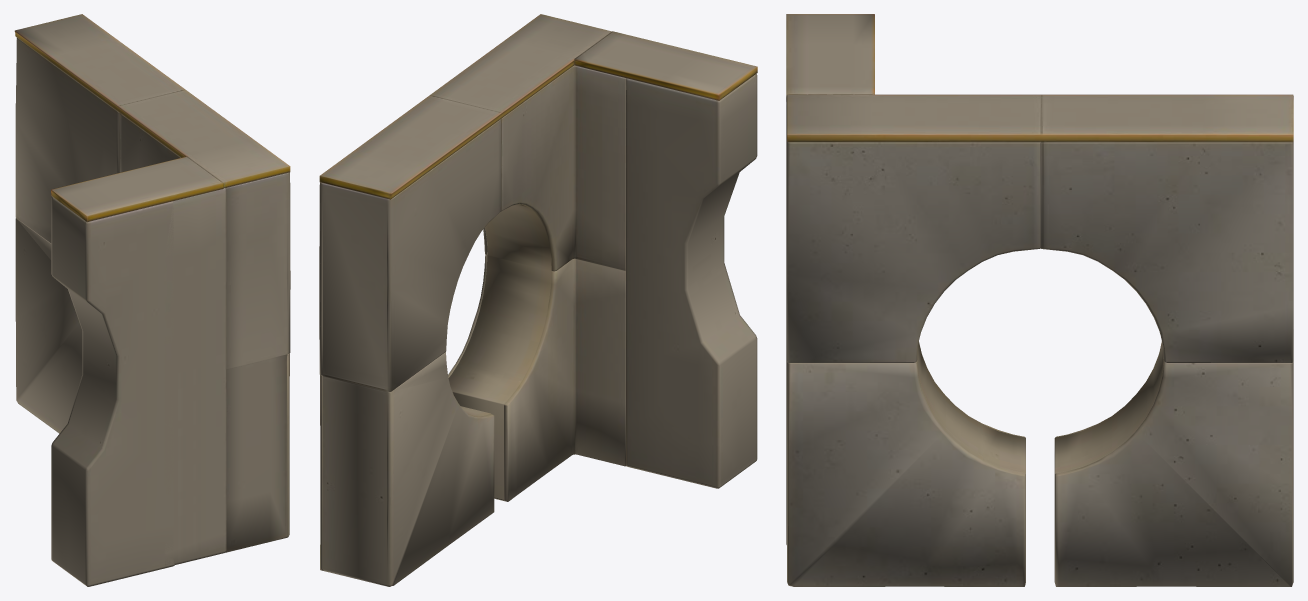
File: q3d-53-frame.glb
3 views of the same model, side by side, from view 1: azimuth 30°, elevation 25°; view 2: azimuth 150°, elevation 25°; view 3: azimuth 270°, elevation 25° (orthographic). The views are drawn at different scales.
Bounding box in the file's own units: 0.5649 × 0.9849 × 0.9995.
1 material, 1 textured.
